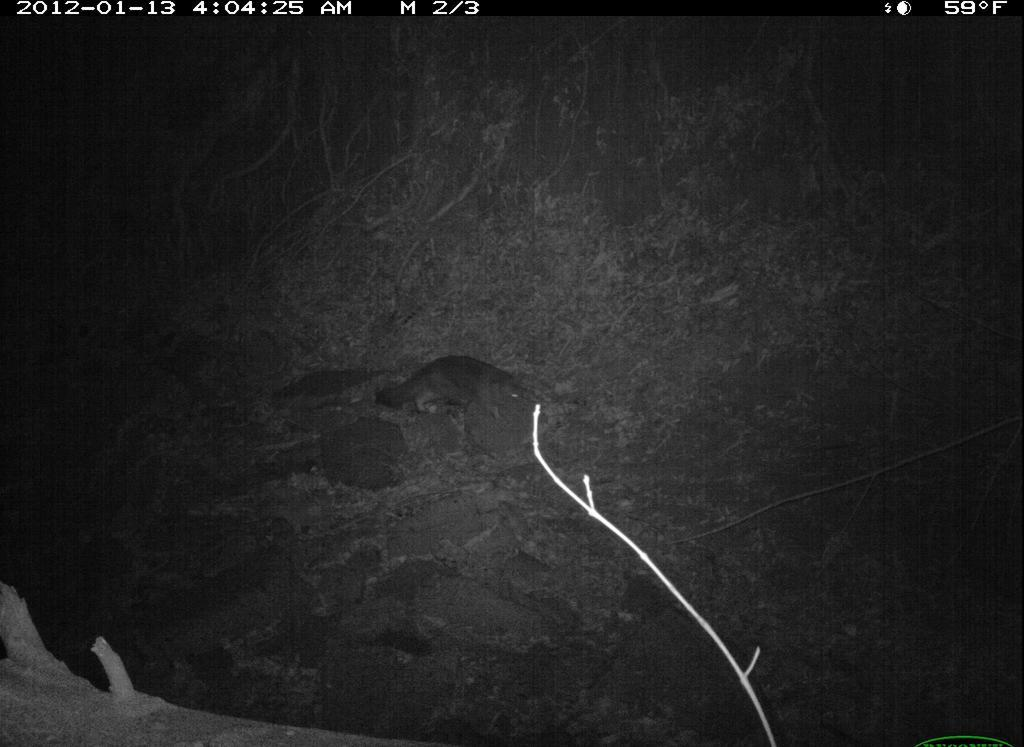cat: (367, 347, 536, 431)
